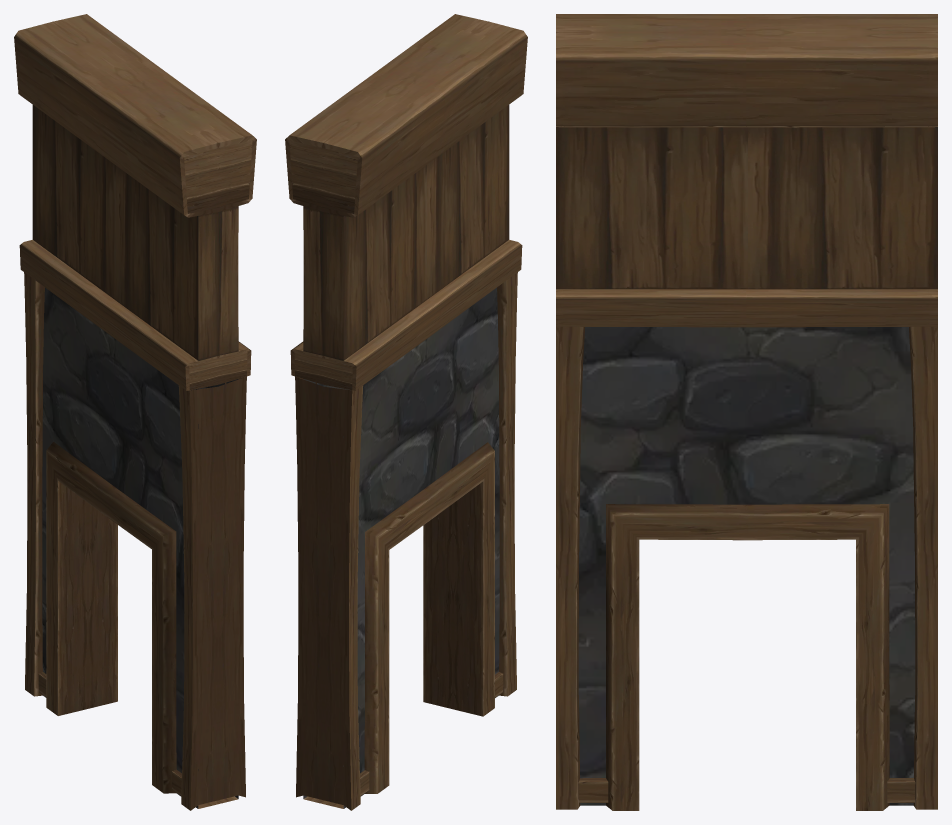
3 views of the same model, side by side, from view 1: azimuth 30°, elevation 25°; view 2: azimuth 150°, elevation 25°; view 3: azimuth 270°, elevation 25° (orthographic). The views are drawn at different scales.
Size of the model in its own units: 1.35 by 11.01 by 5.
Materials: 5 (5 with a texture image).
